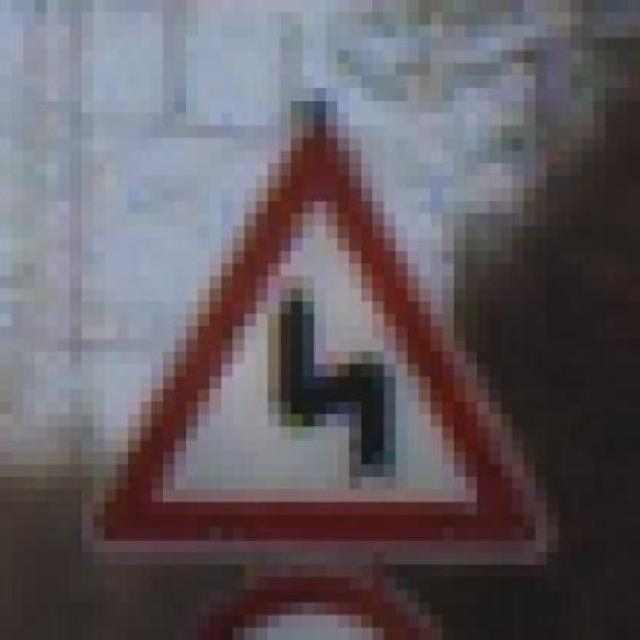Left Zig Zag Traffic: (59, 100, 558, 565)
